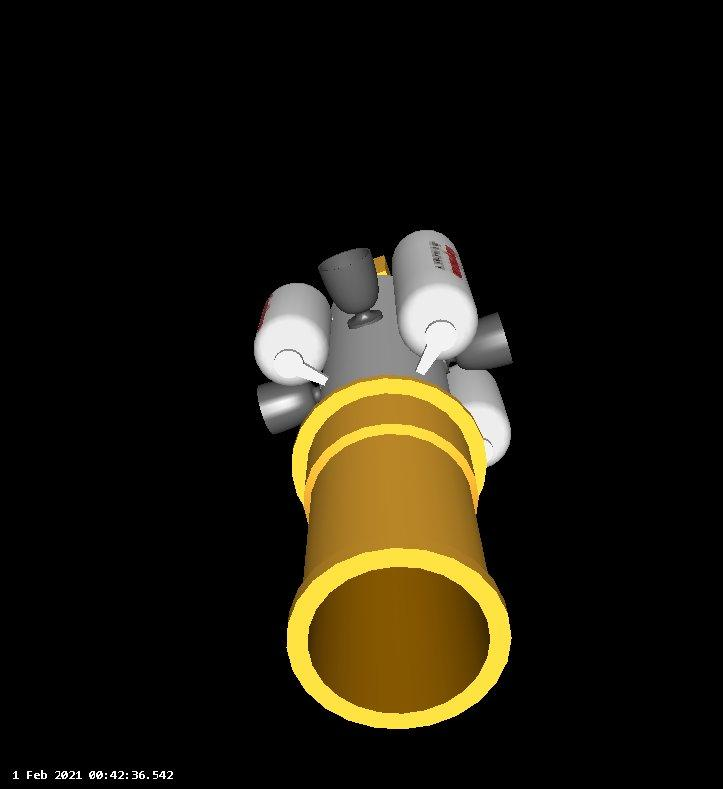body: (254, 227, 512, 476)
thruster: (287, 485, 514, 731), (317, 245, 383, 331), (438, 309, 516, 370), (253, 378, 324, 436)
